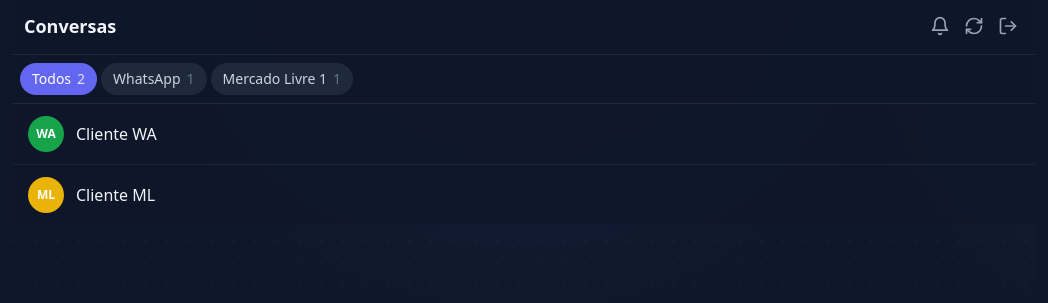
Inbox › mostra abas por conta e filtra a lista ao trocar de aba
Expected: the text "Cliente WA" is shown, x1=76 y1=122 x2=157 y2=146
Expected: the text "Cliente ML" is shown, x1=76 y1=183 x2=155 y2=207
# troca pra aba "Mercado Livre 1" → some o de WhatsApp
Click the button "Mercado Livre 1 1": (282, 79) x1=210 y1=63 x2=353 y2=95
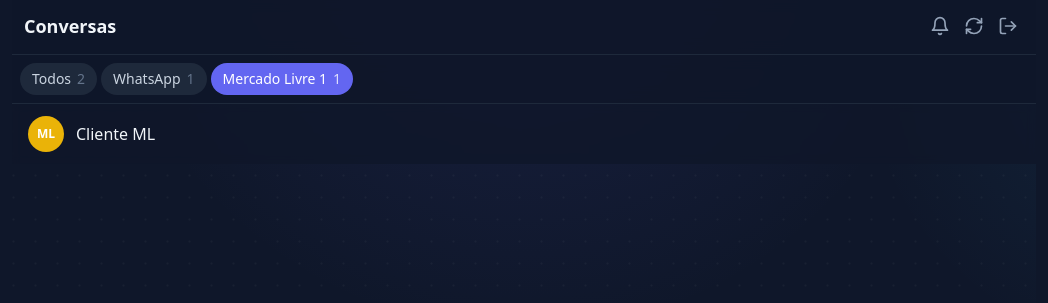
Expected: the text "Cliente ML" is shown, x1=76 y1=122 x2=155 y2=146
Now the button "Cliente WA" is gone
